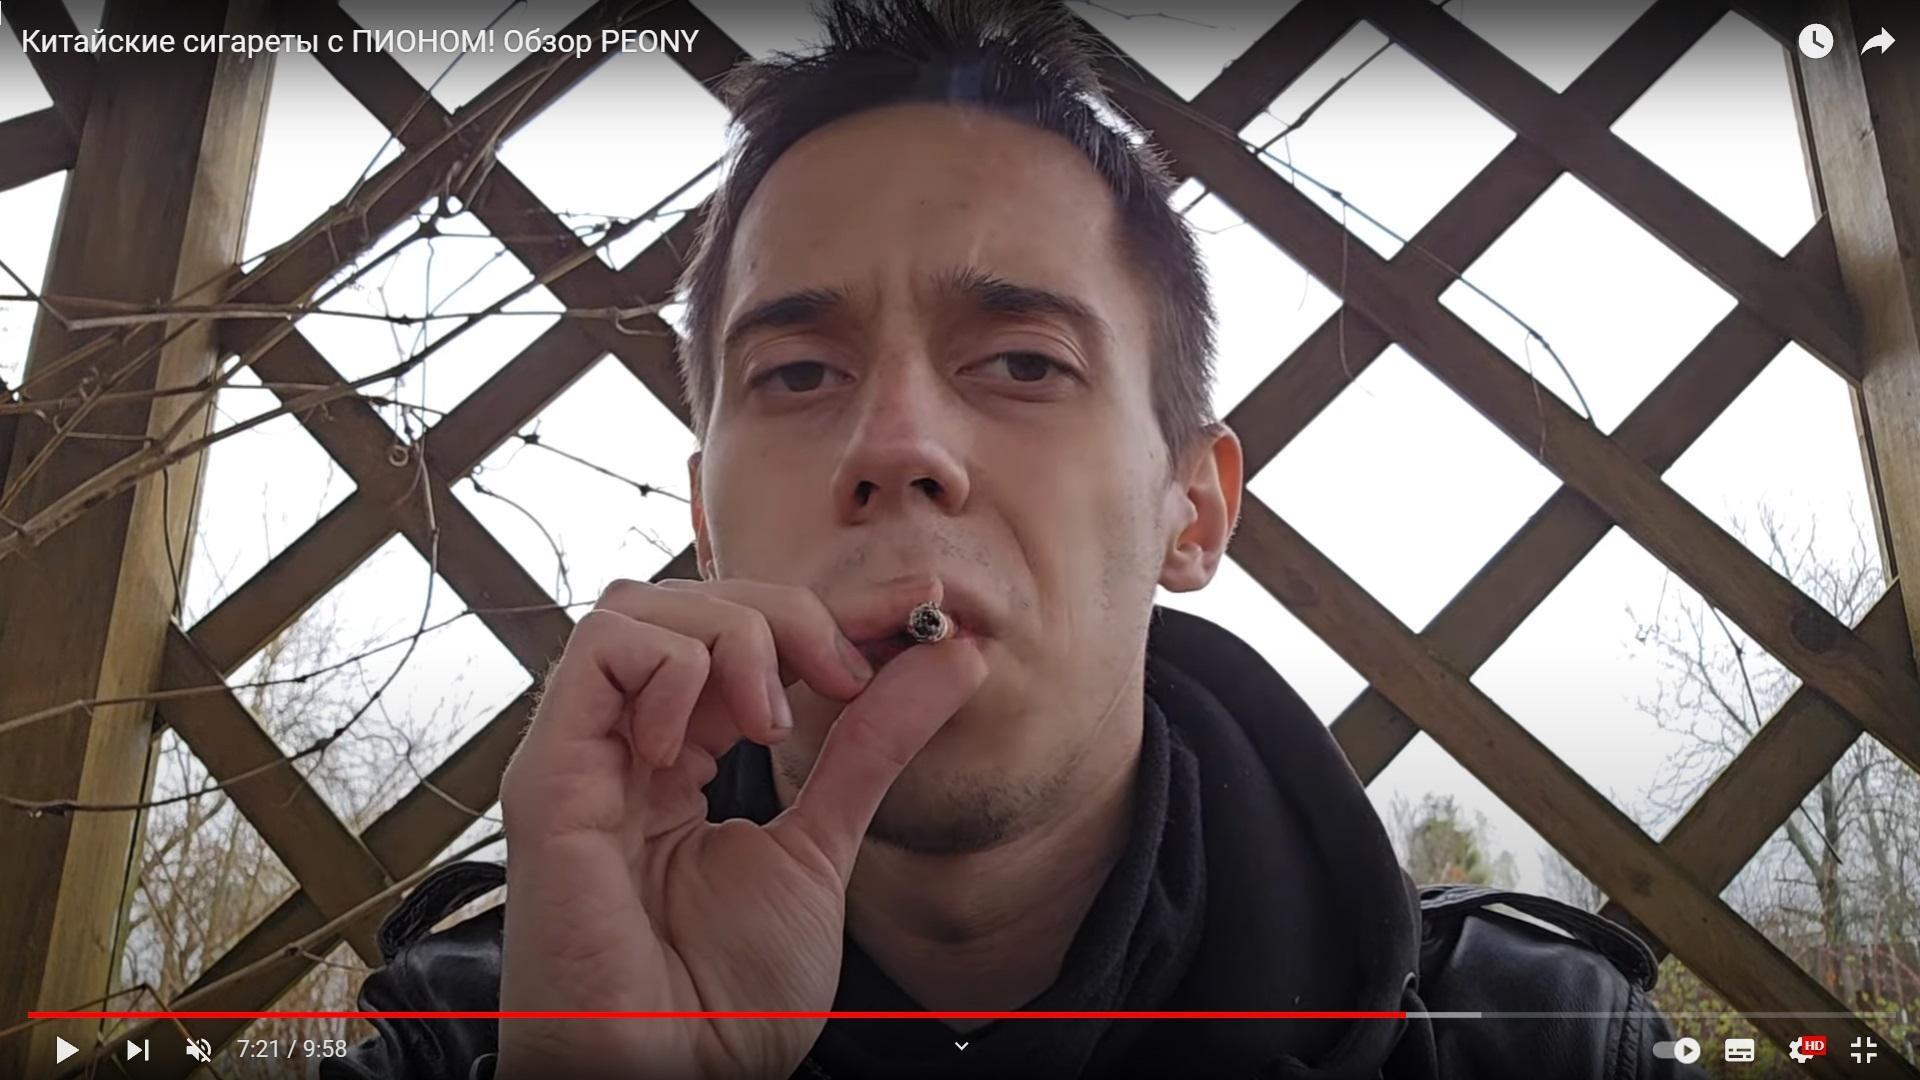cigarette: (909, 603, 959, 644)
